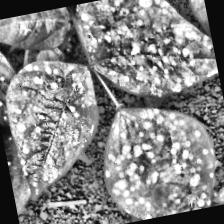Bean Rust: (0, 51, 114, 202), (95, 93, 224, 224), (75, 0, 220, 109), (2, 129, 39, 224), (0, 36, 27, 131)
